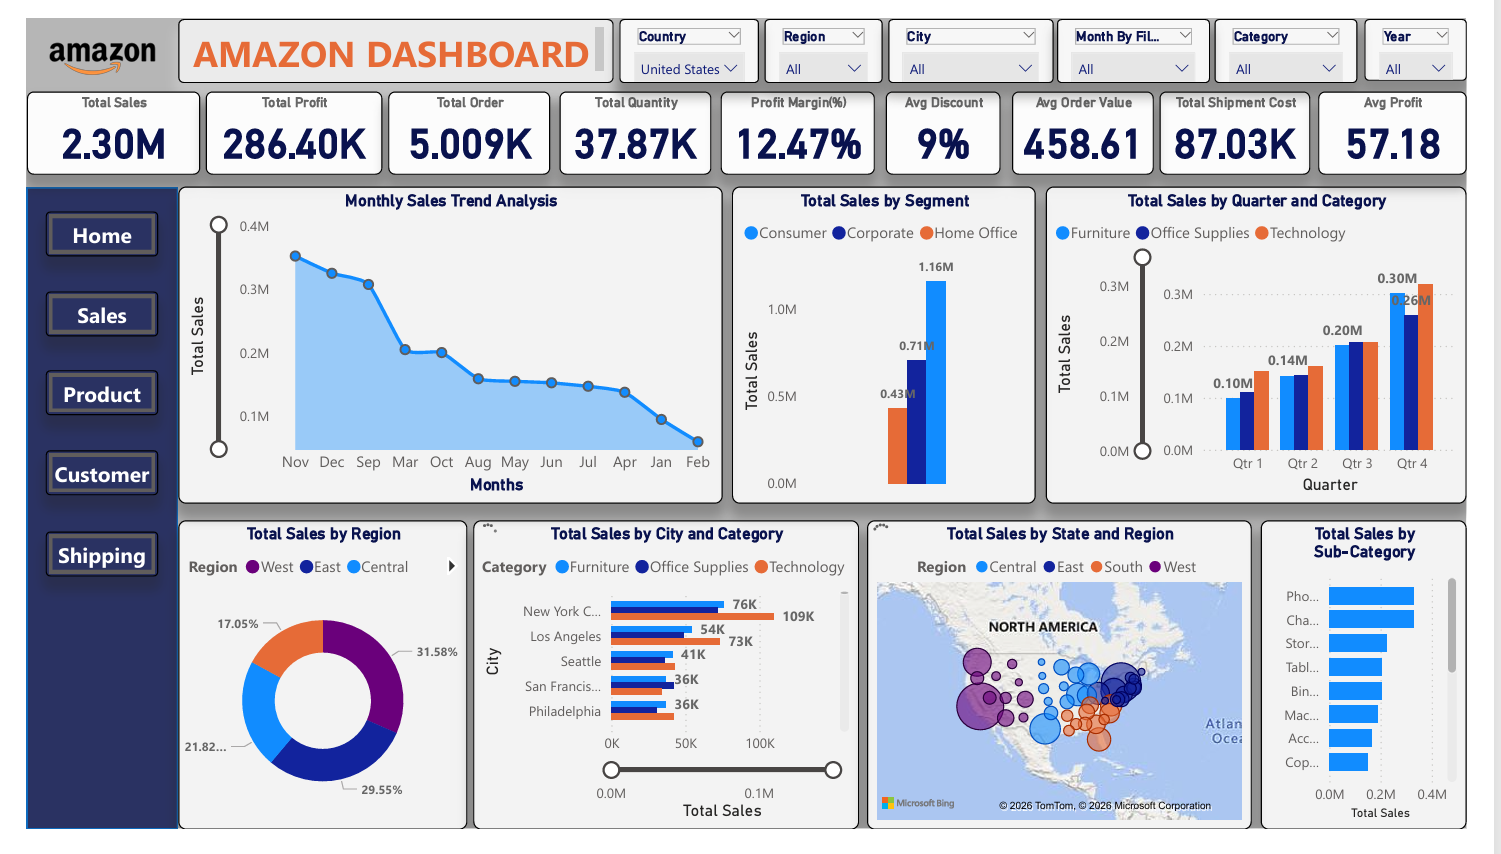

The dashboard page shown, as its layout file describes it:
{"tool":"powerbi","page":{"name":" Home ","canvas":[1280,720],"ordinal":0},"visuals":[{"type":"shape","box":[0,65.6,134.4,654.4],"z":0},{"type":"textbox","box":[134,0,387,57],"z":1000},{"type":"card","title":"Total Sales","fields":{"Values":["All Mesure.Total Sales"]},"box":[133.8,65,153.8,73.8],"z":2000},{"type":"card","title":"Total Profit","fields":{"Values":["All Mesure.Total Profit"]},"box":[293.8,65,156.2,73.8],"z":3000},{"type":"card","title":"Total Quantity","fields":{"Values":["All Mesure.Total Quantity"]},"box":[617.5,65,135,73.8],"z":4000},{"type":"card","title":"Total Order","fields":{"Values":["All Mesure.Total Ordes"]},"box":[461.2,65,143.8,73.8],"z":5000},{"type":"card","title":"Profit Margin(%)","fields":{"Values":["All Mesure.Profit Margin %"]},"box":[761.2,65,136.2,73.8],"z":6000},{"type":"card","title":"Avg Discount","fields":{"Values":["All Mesure.Avg Discount"]},"box":[906.2,65,102.5,73.8],"z":7000},{"type":"card","title":"Total Shipment Cost","fields":{"Values":["All Mesure.Total Shipment Cost"]},"box":[1150,65,130,73.8],"z":8000},{"type":"card","title":"Avg Order Value","fields":{"Values":["All Mesure.Avg Order value"]},"box":[1015,65,126.2,73.8],"z":9000},{"type":"slicer","fields":{"Values":["Amazon Sales.Region"]},"box":[656,0,105,57],"z":10000},{"type":"slicer","fields":{"Values":["Amazon Sales.Year"]},"box":[1189,0,91,55],"z":11000},{"type":"slicer","fields":{"Values":["Amazon Sales.Category"]},"box":[1055,0,127,57],"z":12000},{"type":"slicer","fields":{"Values":["Amazon Sales.City"]},"box":[765,0,147,57],"z":13000},{"type":"slicer","fields":{"Values":["Amazon Sales.Country"]},"box":[527,0,124,57],"z":14000},{"type":"slicer","fields":{"Values":["Amazon Sales.Month Name"]},"box":[916,0,136,57],"z":15000},{"type":"lineChart","title":"Daily Sales Trend","fields":{"Category":["Amazon Sales.Order Date.Variation.Date Hierarchy.Day"],"Y":["All Mesure.Total Sales"]},"box":[134.3,151.4,540,282.9],"z":16000},{"type":"donutChart","fields":{"Category":["Amazon Sales.Region"],"Y":["All Mesure.Total Sales"]},"box":[134.3,445.7,540,274.3],"z":17000},{"type":"clusteredBarChart","title":"Total Sales by City and Category Top (10)","fields":{"Category":["Amazon Sales.City"],"Series":["Amazon Sales.Category"],"Y":["All Mesure.Total Sales"]},"box":[685.7,445.7,594.3,274.3],"z":18000},{"type":"clusteredColumnChart","title":"Total Profit by Quarter and Category Top (10)","fields":{"Y":["All Mesure.Total Profit"],"Category":["Amazon Sales.Order Date.Variation.Date Hierarchy.Quarter"],"Series":["Amazon Sales.Category"]},"box":[685.7,151.4,594.3,282.9],"z":19000},{"type":"actionButton","box":[16.7,242.2,100,40],"z":20000},{"type":"actionButton","box":[16.7,171.1,100,40],"z":21000},{"type":"actionButton","box":[16.7,312.2,100,40],"z":22000},{"type":"actionButton","box":[16.7,383.3,100,40],"z":23000},{"type":"actionButton","box":[16.7,455.6,100,40],"z":24000},{"type":"image","box":[0,0,134.4,65.6],"z":25000}]}

Visuals, with their boxes in screenshot pixels (x1, y1, x2, y2), scaled from the page's 1280x720 canvas onto the 1501x854 screenshot:
shape: pyautogui.locateOnScreen(0, 78, 158, 853)
textbox: pyautogui.locateOnScreen(157, 0, 611, 68)
"Total Sales" card: pyautogui.locateOnScreen(157, 77, 337, 165)
"Total Profit" card: pyautogui.locateOnScreen(345, 77, 528, 165)
"Total Quantity" card: pyautogui.locateOnScreen(724, 77, 882, 165)
"Total Order" card: pyautogui.locateOnScreen(541, 77, 709, 165)
"Profit Margin(%)" card: pyautogui.locateOnScreen(893, 77, 1052, 165)
"Avg Discount" card: pyautogui.locateOnScreen(1063, 77, 1183, 165)
"Total Shipment Cost" card: pyautogui.locateOnScreen(1349, 77, 1500, 165)
"Avg Order Value" card: pyautogui.locateOnScreen(1190, 77, 1338, 165)
slicer - Amazon Sales.Region: pyautogui.locateOnScreen(769, 0, 892, 68)
slicer - Amazon Sales.Year: pyautogui.locateOnScreen(1394, 0, 1500, 65)
slicer - Amazon Sales.Category: pyautogui.locateOnScreen(1237, 0, 1386, 68)
slicer - Amazon Sales.City: pyautogui.locateOnScreen(897, 0, 1069, 68)
slicer - Amazon Sales.Country: pyautogui.locateOnScreen(618, 0, 763, 68)
slicer - Amazon Sales.Month Name: pyautogui.locateOnScreen(1074, 0, 1234, 68)
"Daily Sales Trend" lineChart: pyautogui.locateOnScreen(157, 180, 791, 515)
donutChart - Amazon Sales.Region x All Mesure.Total Sales: pyautogui.locateOnScreen(157, 529, 791, 853)
"Total Sales by City and Category Top (10)" clusteredBarChart: pyautogui.locateOnScreen(804, 529, 1500, 853)
"Total Profit by Quarter and Category Top (10)" clusteredColumnChart: pyautogui.locateOnScreen(804, 180, 1500, 515)
actionButton: pyautogui.locateOnScreen(20, 287, 137, 335)
actionButton: pyautogui.locateOnScreen(20, 203, 137, 250)
actionButton: pyautogui.locateOnScreen(20, 370, 137, 418)
actionButton: pyautogui.locateOnScreen(20, 455, 137, 502)
actionButton: pyautogui.locateOnScreen(20, 540, 137, 588)
image: pyautogui.locateOnScreen(0, 0, 158, 78)
